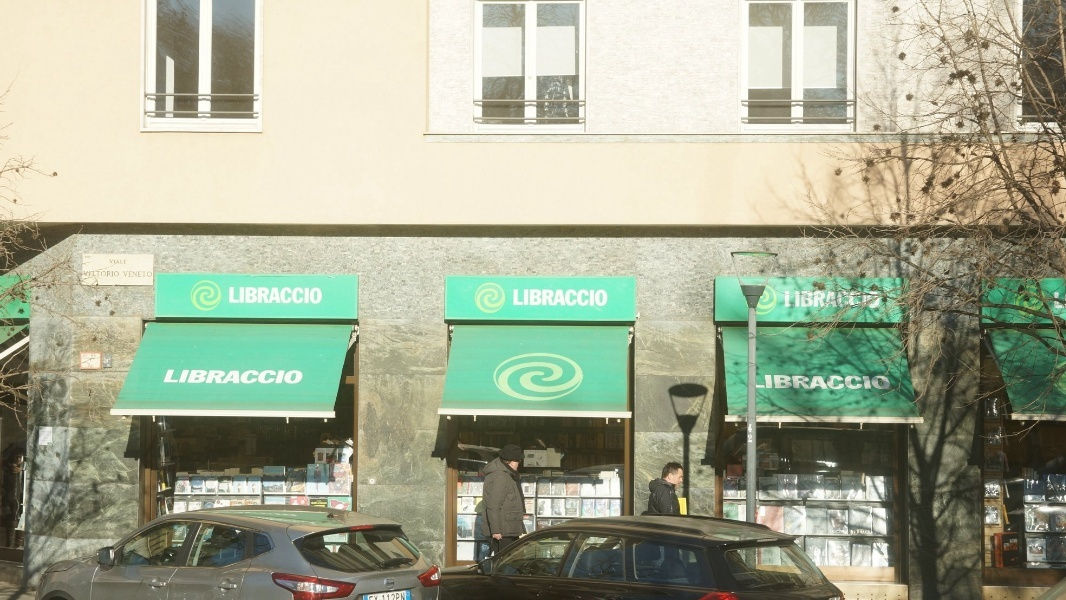text: (289, 366, 305, 389), (177, 366, 192, 389), (193, 366, 208, 389), (209, 366, 224, 389), (225, 366, 240, 389), (241, 366, 256, 389), (257, 366, 272, 389), (273, 366, 288, 389), (241, 285, 256, 306), (257, 285, 272, 306), (273, 285, 288, 306), (289, 285, 304, 306), (305, 285, 320, 306), (513, 288, 528, 309), (529, 288, 544, 309), (545, 288, 560, 309), (561, 288, 576, 309), (577, 288, 592, 309), (593, 288, 608, 309), (785, 291, 800, 311), (801, 291, 816, 311), (817, 291, 832, 311), (833, 291, 848, 311), (849, 291, 864, 311), (865, 291, 880, 311), (769, 372, 784, 391), (785, 372, 800, 391), (801, 372, 816, 391), (817, 372, 832, 391), (833, 372, 848, 391), (849, 372, 864, 391), (865, 372, 880, 391), (881, 372, 894, 391), (229, 285, 240, 306), (166, 366, 176, 389), (757, 372, 768, 391), (1057, 291, 1066, 311), (97, 271, 112, 278), (129, 271, 144, 278), (83, 271, 96, 278), (113, 259, 128, 265), (1052, 291, 1056, 311), (406, 592, 416, 600), (83, 354, 96, 360), (321, 285, 324, 306), (145, 271, 153, 278), (113, 271, 120, 278), (609, 288, 611, 309), (122, 271, 128, 278), (90, 354, 96, 359), (783, 291, 784, 311), (881, 291, 882, 311), (109, 259, 112, 265)
